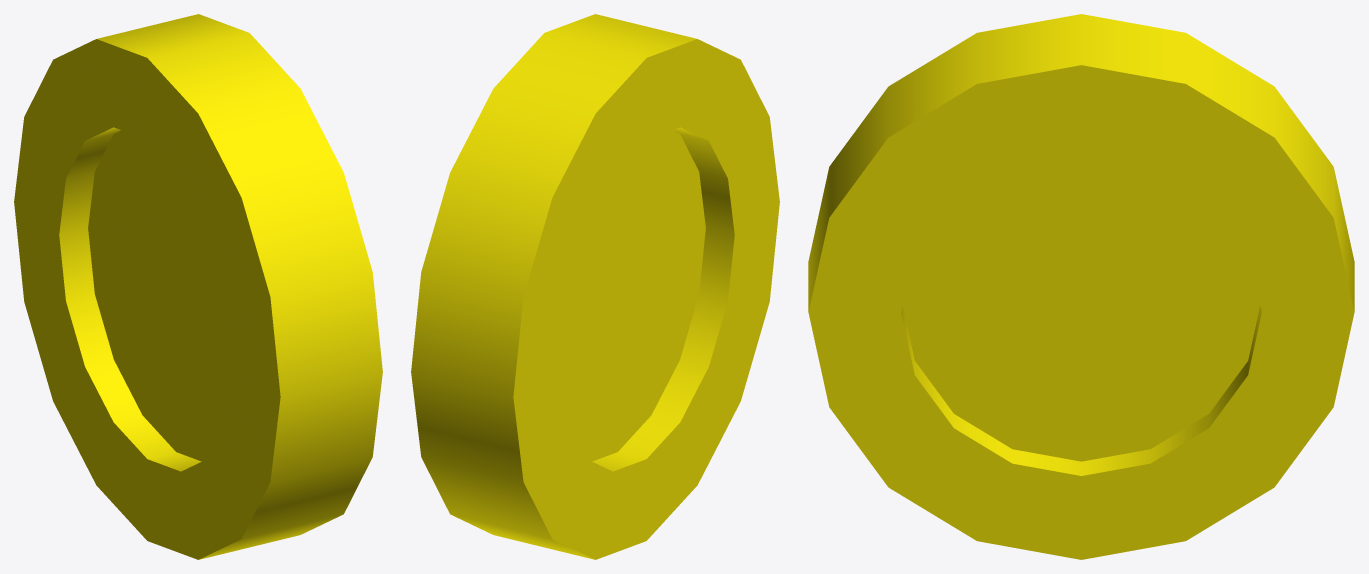
The model's file is Coin.fbx.
3 renders of one model, left to right at view 1: azimuth 30°, elevation 25°; view 2: azimuth 150°, elevation 25°; view 3: azimuth 270°, elevation 25°, orthographic. The views are drawn at different scales.
Visible parts, largest first — view 1: Coin; view 2: Coin; view 3: Coin.
Boxes of the visible parts, x1,y1,x2,y2 form: Coin: (14, 14, 382, 559); Coin: (411, 14, 779, 559); Coin: (808, 14, 1354, 559).
Bounding box in the file's own units: 0.4432 × 2 × 2.
